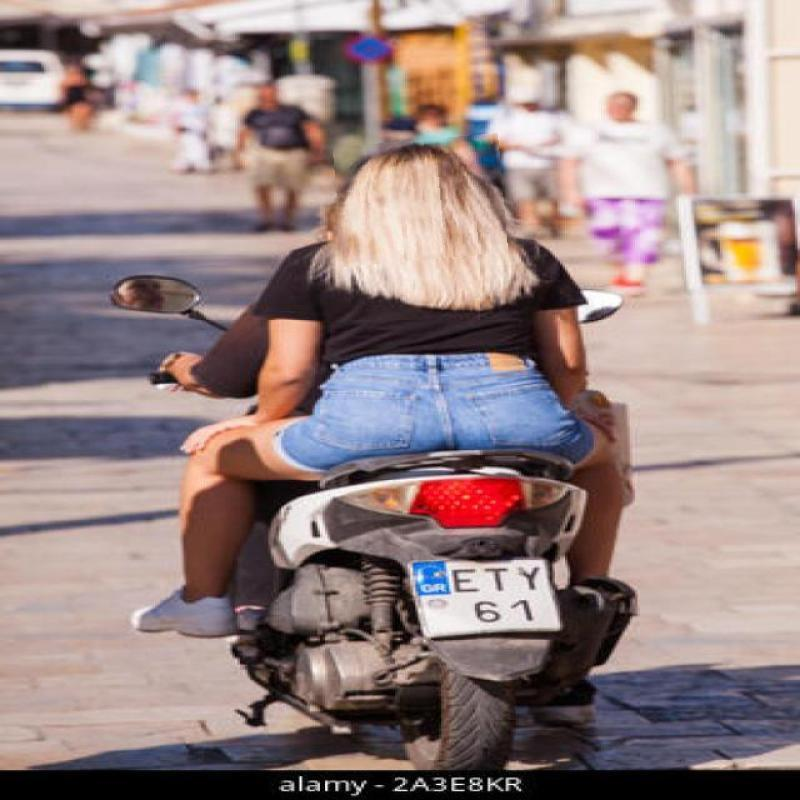nohelmet: (335, 137, 506, 263)
